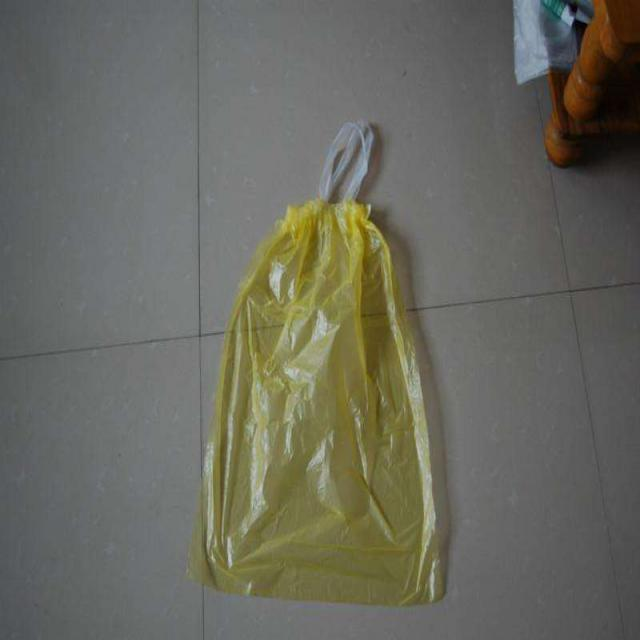waste: (213, 194, 430, 600)
